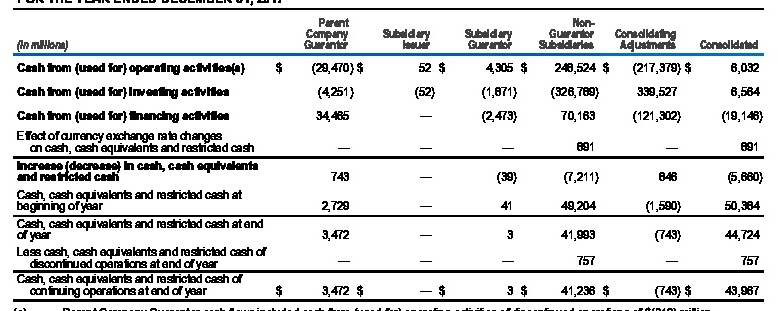table: (0, 0, 778, 311)
